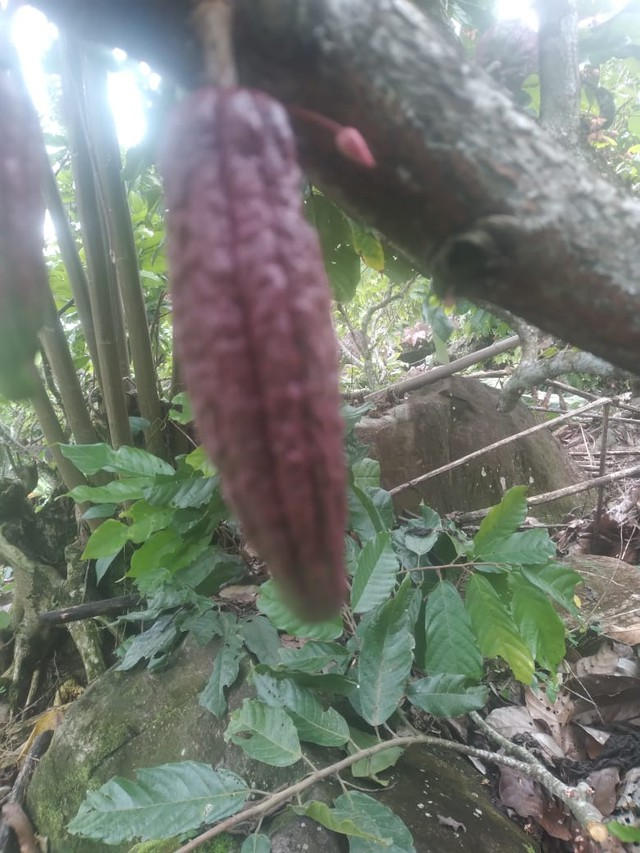Health: (137, 76, 364, 629)
